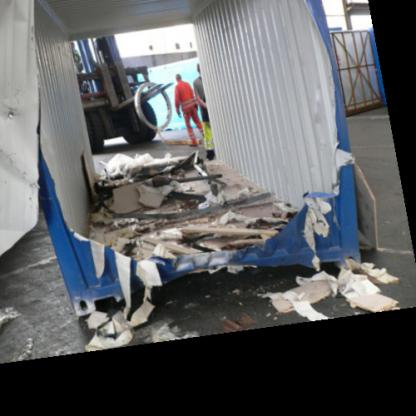Damage: (16, 0, 377, 307)
